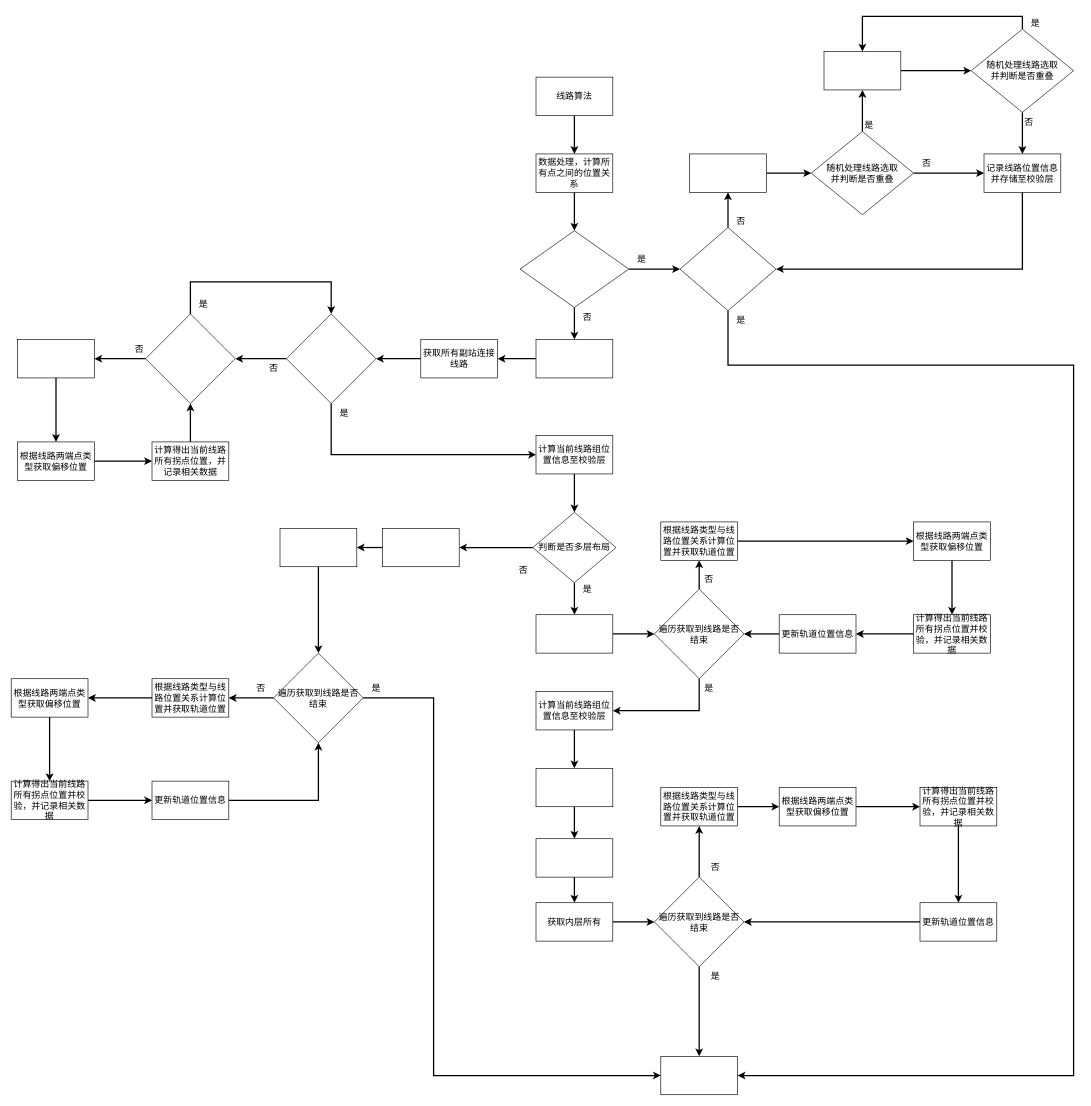
Image size: 1091x1106. Some labels were removed from this diagram. Each missing label, with the centre of its shape:
判断变电站个数是否大于21: point (574, 269)
处理副站连接线路: point (574, 358)
打乱顺序并 遍历所有线路是否结束: point (727, 269)
根据线路类型计算位置并获取轨道位置: point (55, 358)
结束: point (699, 1075)
获取内外层所有与主战连接线路: point (420, 547)
获取外层所有与主战连接线路: point (574, 633)
获取左右两侧乱层线路并计算: point (574, 787)
获取左右两侧同侧线路并计算: point (574, 857)
获取所有线路预设线路类型以及相关可能线路: point (727, 172)
进行分组排序，保证线路轨道顺序为单边递增: point (318, 547)
遍历所有副站是否结束: point (331, 358)
遍历所有线路是否结束: point (190, 358)
重新计算获取更复杂线路: point (862, 70)
